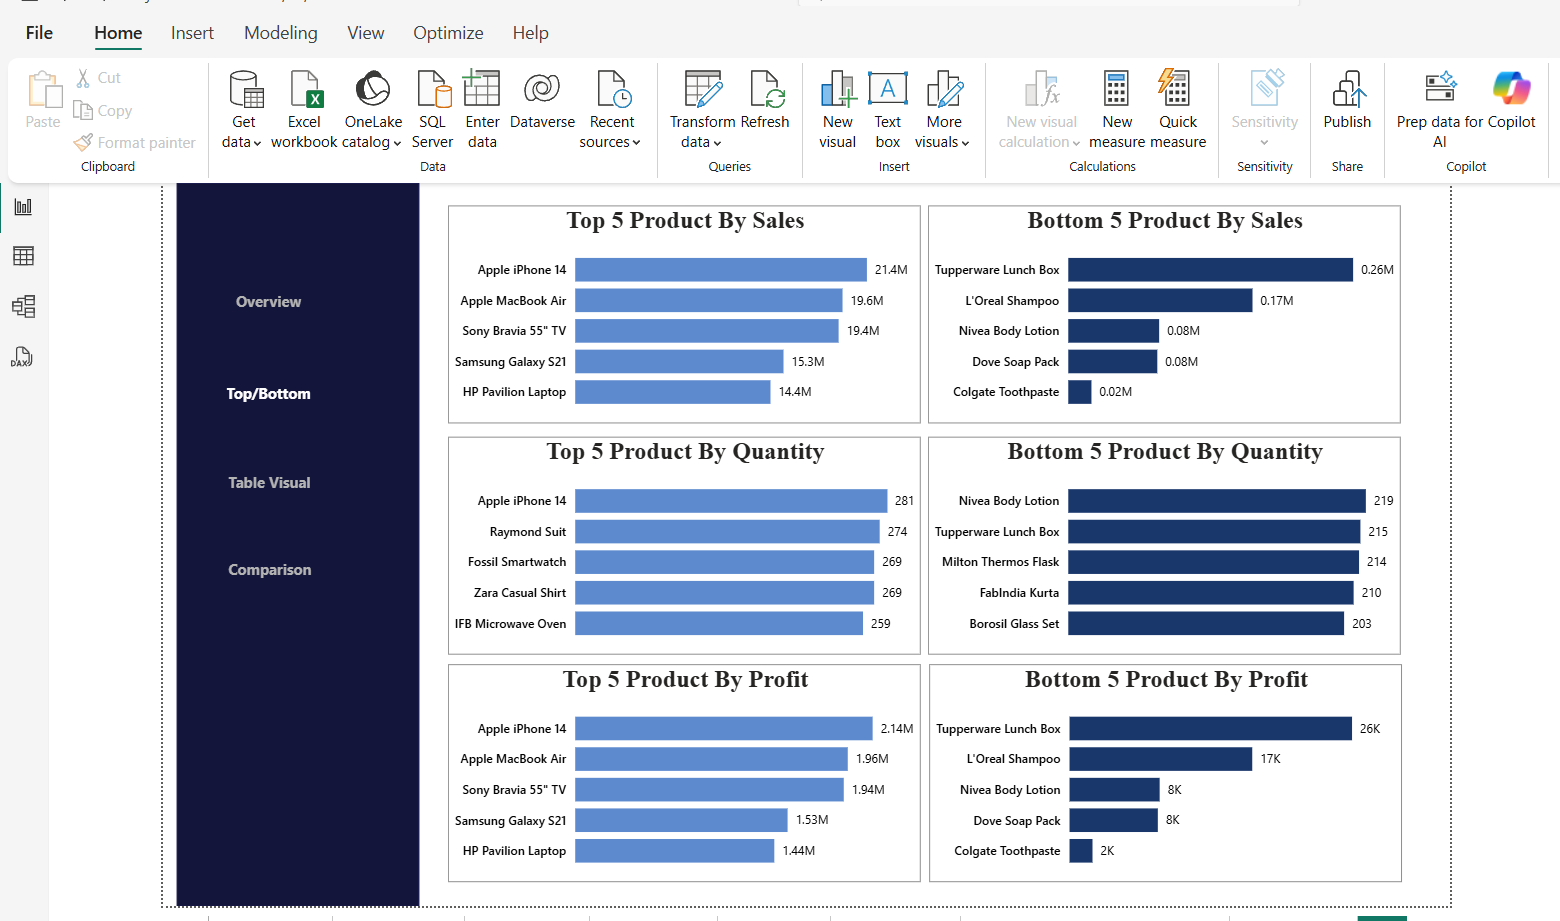

Layout of this report page (visuals, bound fields, positions):
{"tool":"powerbi","page":{"name":"top/Bottom","canvas":[1280,720],"ordinal":1},"visuals":[{"type":"shape","box":[13.7,0,241.3,720.3],"z":0},{"type":"actionButton","title":"Comparison","box":[42.7,360.1,128,46.1],"z":1000},{"type":"actionButton","title":"Table View","box":[41,273.1,129.7,42.7],"z":2000},{"type":"actionButton","title":"Top/Bottom","box":[41,184.3,128,44.4],"z":3000},{"type":"actionButton","title":"Overview","box":[41,95.6,128,44.4],"z":4000},{"type":"barChart","title":"Top 5 Product By Sales","fields":{"Category":["Dim Product.Product Name"],"Y":["Sum(Facts.Net sales)"]},"box":[283.7,23,470.7,216.8],"z":5000},{"type":"barChart","title":"Bottom 5 Product By Sales","fields":{"Category":["Dim Product.Product Name"],"Y":["Sum(Facts.Net sales)"]},"box":[761.2,23,470.7,216.8],"z":6000},{"type":"barChart","title":"Top 5 Product By Quantity","fields":{"Category":["Dim Product.Product Name"],"Y":["Sum(Facts.Units Sold)"]},"box":[283.7,252.1,470.7,216.8],"z":7000},{"type":"barChart","title":"Bottom 5 Product By Quantity","fields":{"Category":["Dim Product.Product Name"],"Y":["Sum(Facts.Units Sold)"]},"box":[761.2,252.1,470.7,216.8],"z":8000},{"type":"barChart","title":"Top 5 Product By Profit","fields":{"Category":["Dim Product.Product Name"],"Y":["Sum(Facts.Profit)"]},"box":[283.7,478.5,470.7,216.8],"z":9000},{"type":"barChart","title":"Bottom 5 Product By Profit","fields":{"Category":["Dim Product.Product Name"],"Y":["Sum(Facts.Profit)"]},"box":[762.6,478.5,470.7,216.8],"z":10000}]}

Visuals, with their boxes on the page's 1280x720 design canvas (x1, y1, x2, y2). These are canvas units, not pixel positions in the 1560x921 screenshot, which may show the page scaled, cropped or inside an application window:
shape: box(14, 0, 255, 720)
"Comparison" actionButton: box(43, 360, 171, 406)
"Table View" actionButton: box(41, 273, 171, 316)
"Top/Bottom" actionButton: box(41, 184, 169, 229)
"Overview" actionButton: box(41, 96, 169, 140)
"Top 5 Product By Sales" barChart: box(284, 23, 754, 240)
"Bottom 5 Product By Sales" barChart: box(761, 23, 1232, 240)
"Top 5 Product By Quantity" barChart: box(284, 252, 754, 469)
"Bottom 5 Product By Quantity" barChart: box(761, 252, 1232, 469)
"Top 5 Product By Profit" barChart: box(284, 478, 754, 695)
"Bottom 5 Product By Profit" barChart: box(763, 478, 1233, 695)
